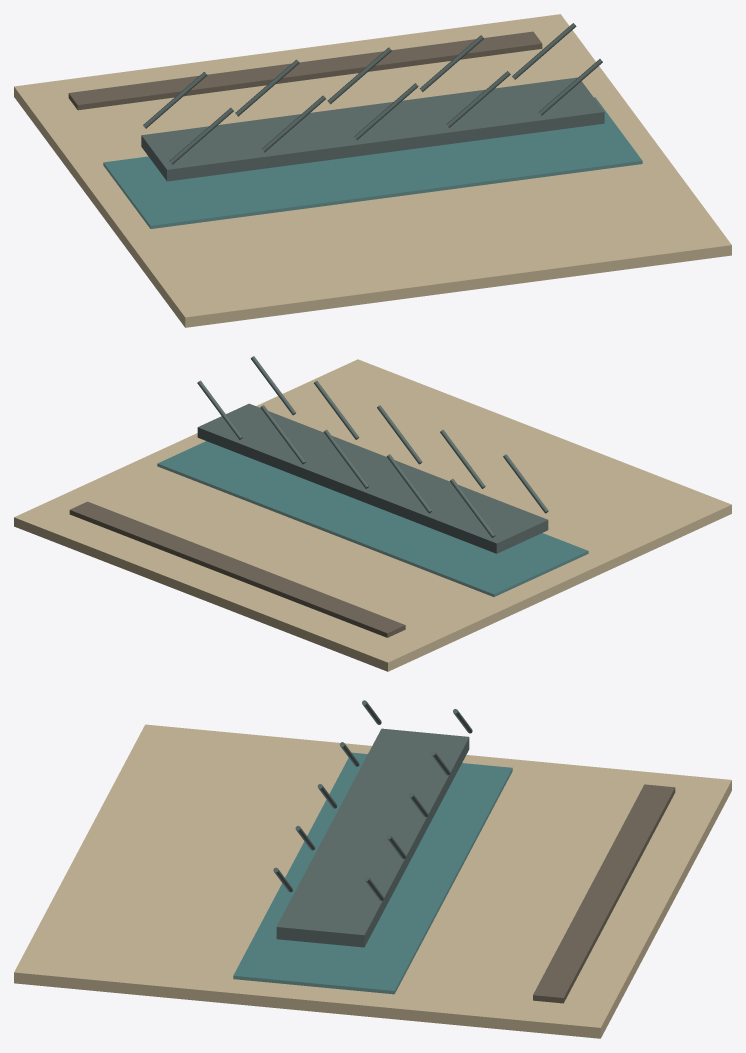
Rendered from model-medium.glb.
3 renders of one model, top to bottom at view 1: azimuth 30°, elevation 25°; view 2: azimuth 150°, elevation 25°; view 3: azimuth 270°, elevation 25°, orthographic. The views are drawn at different scales.
Parts seen in each view (by area): view 1: context_site_plinth, river_context, bridge_deck, front_scale_strip; view 2: context_site_plinth, river_context, bridge_deck, front_scale_strip; view 3: context_site_plinth, river_context, bridge_deck, front_scale_strip.
Part boxes in pixels (x1,y1,x2,y2): context_site_plinth: (14, 14, 731, 327); river_context: (103, 97, 642, 228); bridge_deck: (141, 77, 604, 181); front_scale_strip: (68, 31, 542, 110); context_site_plinth: (14, 359, 731, 671); river_context: (157, 441, 588, 596); bridge_deck: (197, 403, 548, 553); front_scale_strip: (69, 501, 405, 637); context_site_plinth: (14, 724, 731, 1038); river_context: (233, 752, 512, 994); bridge_deck: (276, 728, 469, 947); front_scale_strip: (533, 784, 675, 1003).
Bounding box in the file's own units: 9.55 × 1.65 × 9.55.
